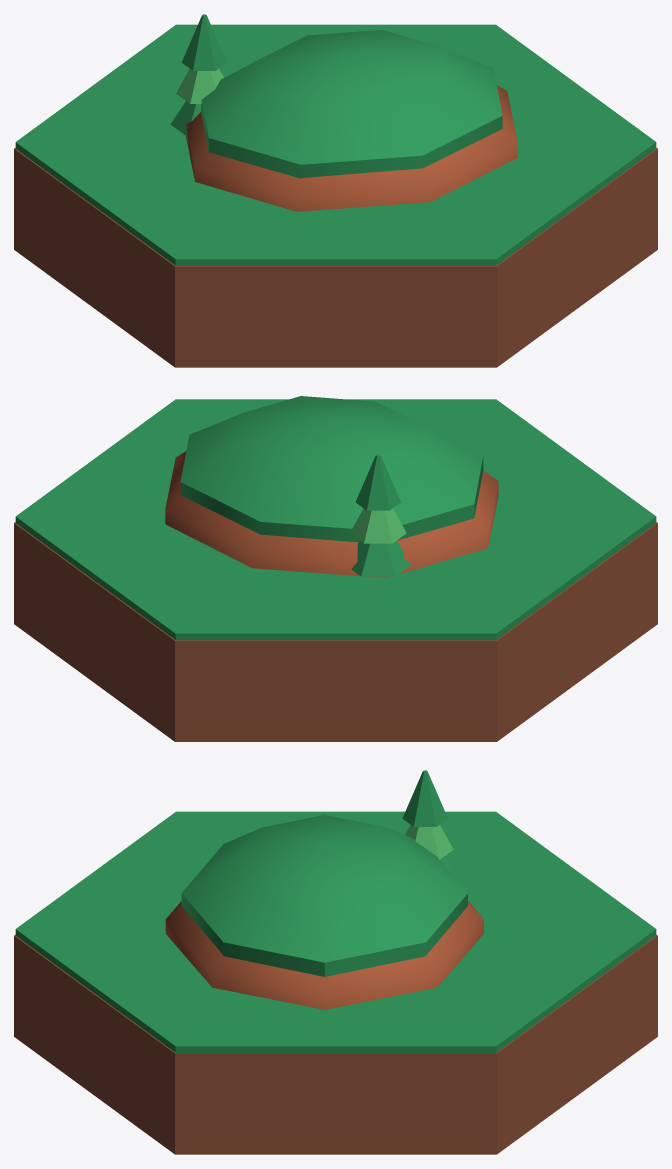
Rendered from grass-hill.glb.
The picture shows the model from 3 angles, top to bottom: view 1: azimuth 30°, elevation 25°; view 2: azimuth 150°, elevation 25°; view 3: azimuth 270°, elevation 25°; orthographic projection.
Parts seen in each view (by area): view 1: grass_hill; view 2: grass_hill; view 3: grass_hill.
Part boxes in pixels (x1,y1,x2,y2): grass_hill: [14, 14, 657, 367]; grass_hill: [14, 396, 657, 741]; grass_hill: [14, 770, 657, 1154].
Size of the model in its own units: 1 by 0.4612 by 1.15.
Materials: 1 (1 with a texture image).
